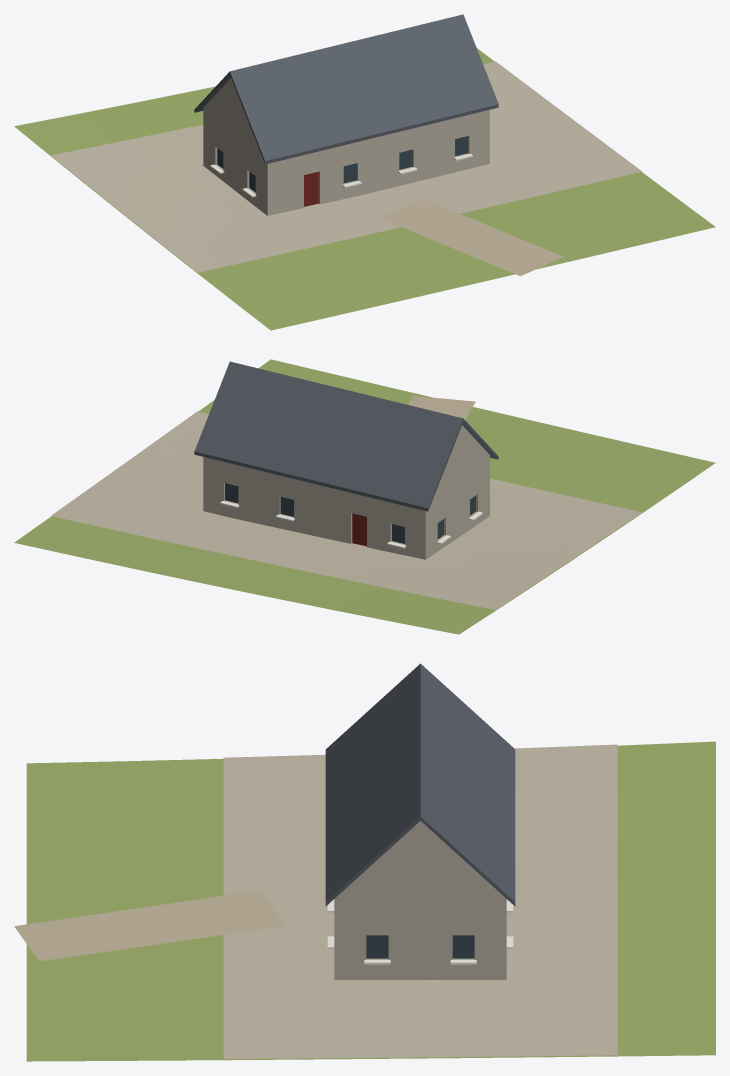
File: old_school.glb
The picture shows the model from 3 angles, top to bottom: view 1: azimuth 30°, elevation 25°; view 2: azimuth 150°, elevation 25°; view 3: azimuth 270°, elevation 25°; orthographic projection. The views are drawn at different scales.
Parts seen in each view (by area): view 1: ground_areas, ground, cut_roof_old_school, old_school_shell, ground_lanes, old_school_walls; view 2: ground_areas, ground, cut_roof_old_school, old_school_shell, old_school_walls, ground_lanes; view 3: ground, ground_areas, cut_roof_old_school, old_school_shell, ground_lanes, old_school_walls.
Part boxes in pixels (x1,y1,x2,y2): ground_areas: (51, 61, 641, 272); ground: (14, 48, 715, 330); cut_roof_old_school: (194, 14, 498, 164); old_school_shell: (203, 78, 489, 215); ground_lanes: (380, 198, 563, 276); old_school_walls: (210, 136, 472, 206); ground_areas: (51, 411, 641, 609); ground: (14, 359, 715, 634); cut_roof_old_school: (194, 361, 498, 511); old_school_shell: (203, 425, 489, 559); old_school_walls: (220, 483, 482, 548); ground_lanes: (408, 396, 475, 419); ground: (26, 741, 715, 1061); ground_areas: (223, 744, 617, 1058); cut_roof_old_school: (325, 663, 515, 906); old_school_shell: (334, 821, 506, 979); ground_lanes: (14, 890, 285, 961); old_school_walls: (327, 900, 513, 964).
Size of the model in its own units: 28 by 7.89 by 28.51.
